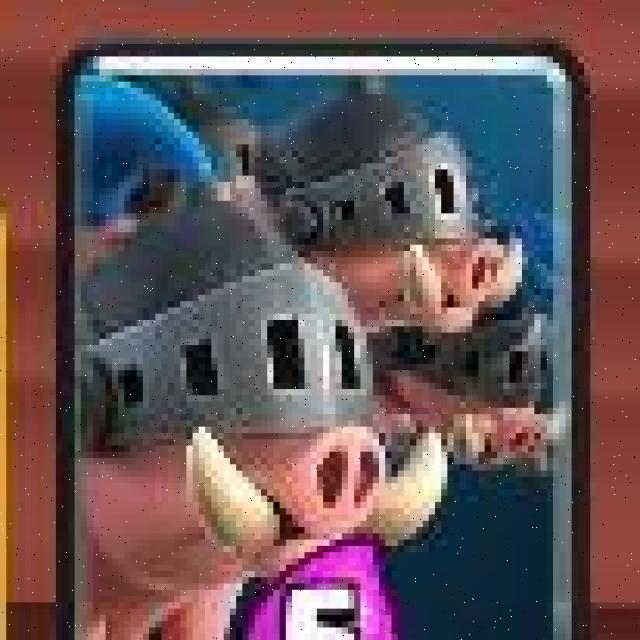Royal_Hogs: (48, 36, 592, 640)
